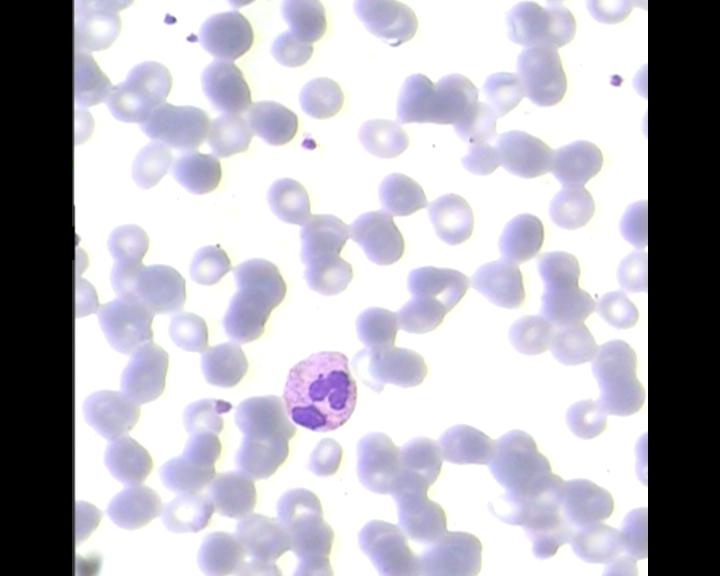neut: (276, 344, 363, 436)
